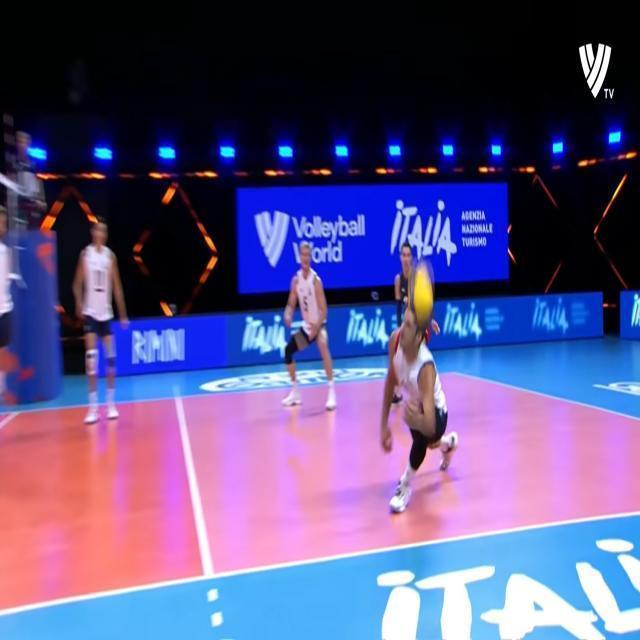volleyball: (408, 261, 434, 327)
